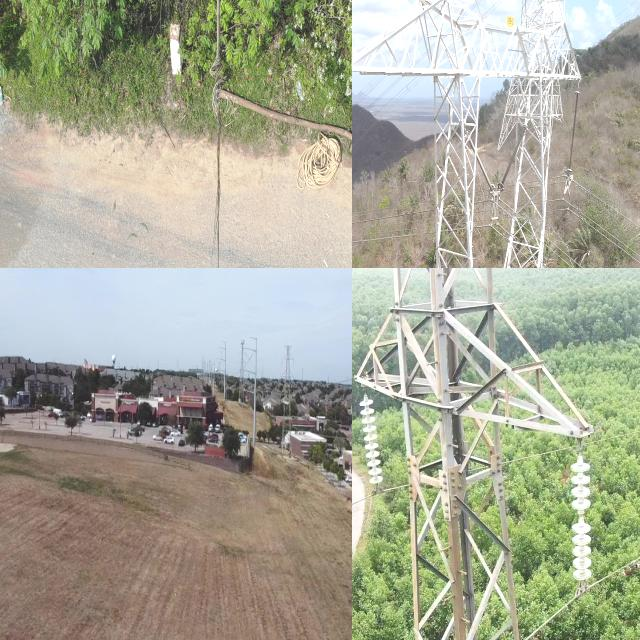杆塔: (352, 268, 608, 640), (352, 0, 599, 268), (280, 341, 295, 458), (236, 337, 246, 405)
正常电缆: (569, 208, 640, 266), (573, 203, 640, 258), (580, 184, 640, 231)
正常绝缘子: (567, 445, 600, 597), (352, 378, 383, 497), (497, 124, 528, 192), (465, 131, 496, 196), (566, 90, 581, 174)
电缆破损: (198, 60, 230, 268)
绝缘子破损: (572, 511, 586, 522)
